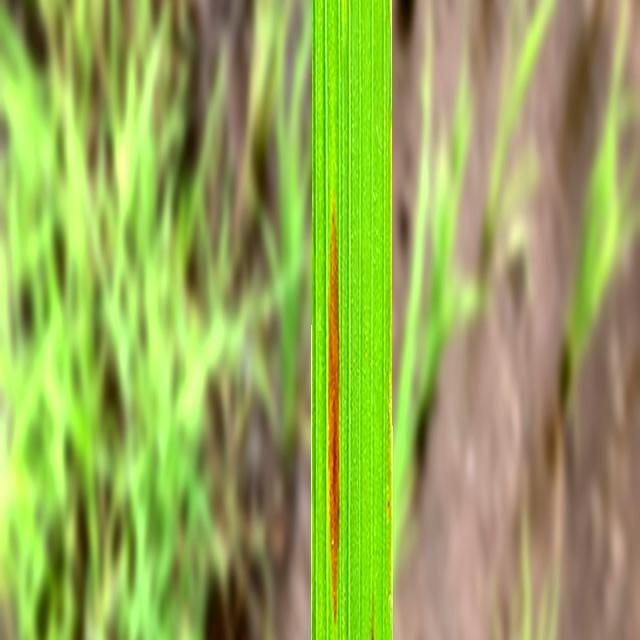NBS: (328, 202, 339, 619), (371, 621, 374, 640)
